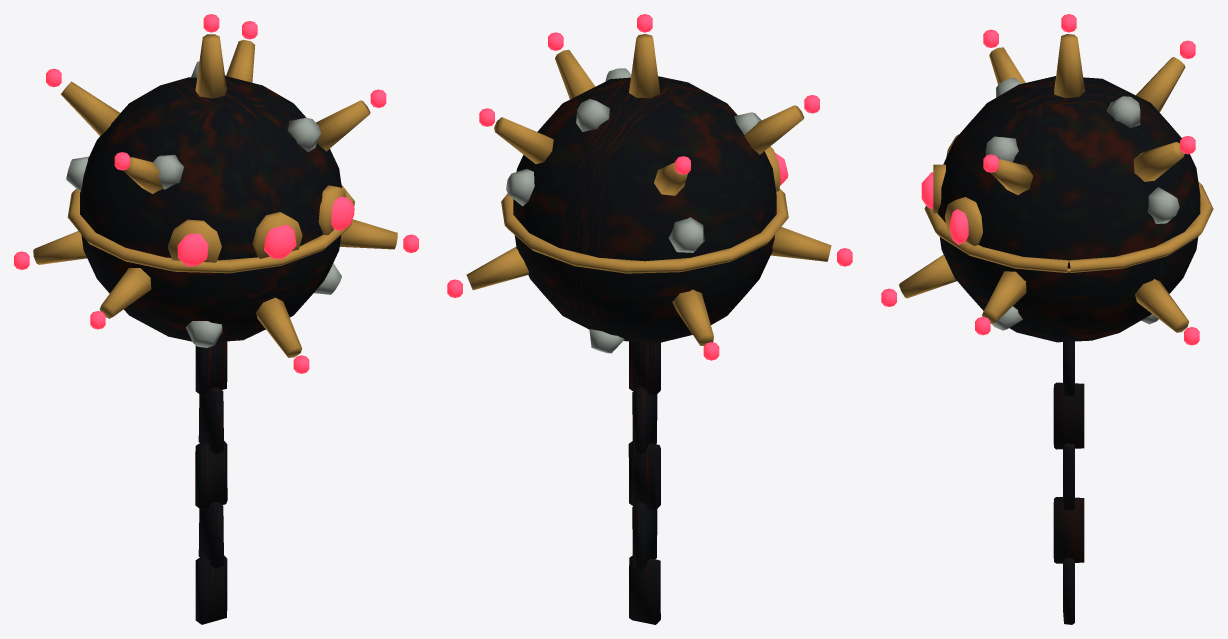
Rendered from sea_mine.glb.
3 views of the same model, side by side, from view 1: azimuth 30°, elevation 25°; view 2: azimuth 150°, elevation 25°; view 3: azimuth 270°, elevation 25° (orthographic).
Visible parts, largest first — view 1: mine_body, horns; view 2: mine_body, horns; view 3: mine_body, horns.
Boxes of the visible parts, bbox=[...] form: mine_body: bbox=[66, 61, 354, 624]; horns: bbox=[14, 14, 418, 373]; mine_body: bbox=[501, 68, 788, 624]; horns: bbox=[447, 14, 852, 360]; mine_body: bbox=[921, 76, 1213, 624]; horns: bbox=[881, 14, 1199, 345].
Size of the model in its own units: 0.9612 by 1.69 by 0.8433.
4 materials, 1 textured.
